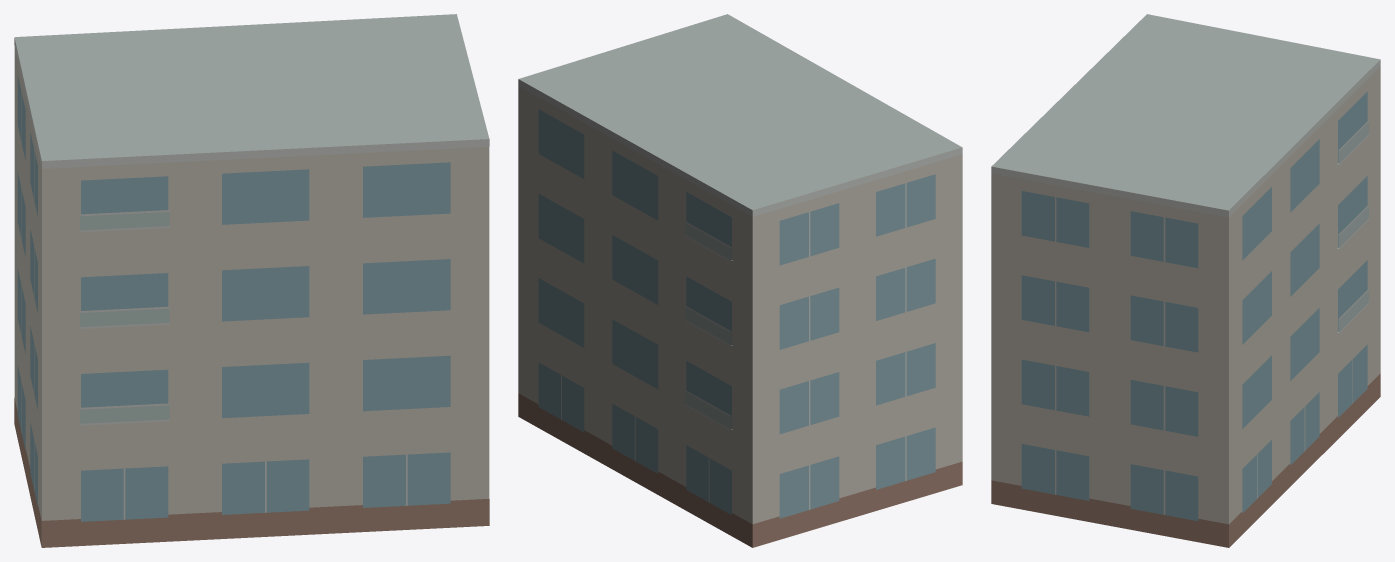
File: survey-upis-32713579.glb
The picture shows the model from 3 angles, left to right: view 1: azimuth 30°, elevation 25°; view 2: azimuth 150°, elevation 25°; view 3: azimuth 270°, elevation 25°; orthographic projection. The views are drawn at different scales.
Visible parts, largest first — view 1: survey-upis-32713579.tmp; view 2: survey-upis-32713579.tmp; view 3: survey-upis-32713579.tmp.
Boxes of the visible parts, x1,y1,x2,y2 form: survey-upis-32713579.tmp: (14,14,489,547); survey-upis-32713579.tmp: (518,14,962,547); survey-upis-32713579.tmp: (991,14,1380,547).
Bounding box in the file's own units: 15.26 × 12.2 × 12.77.
